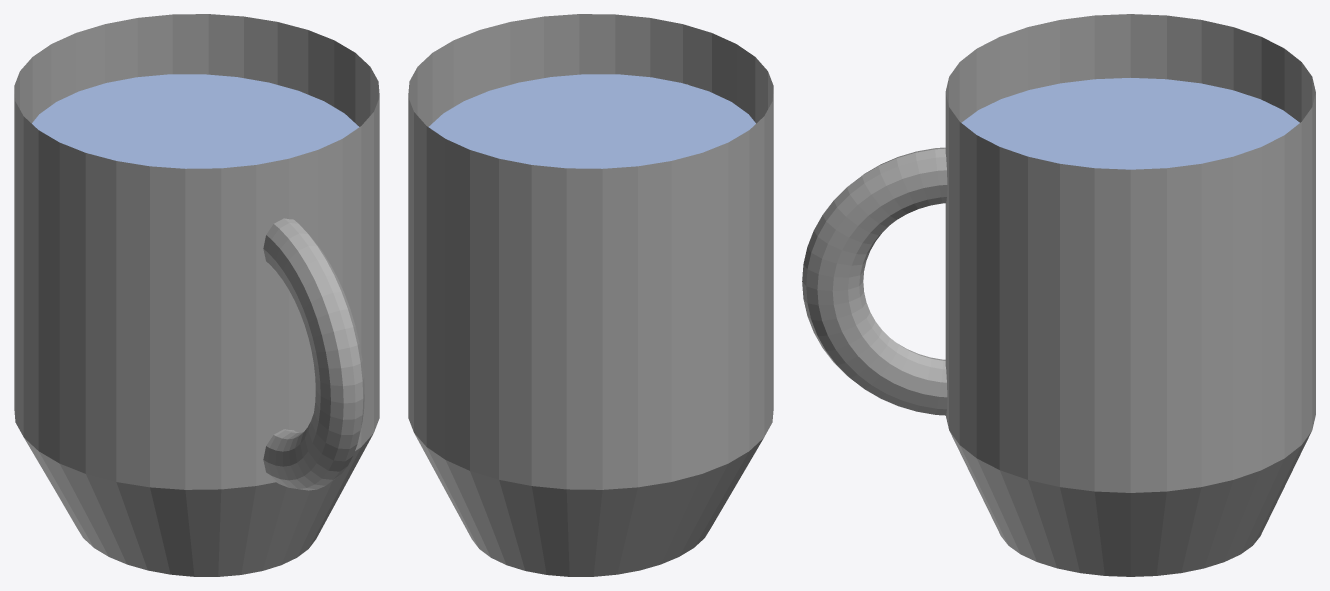
The model's file is cup.fbx.
3 renders of one model, left to right at view 1: azimuth 30°, elevation 25°; view 2: azimuth 150°, elevation 25°; view 3: azimuth 270°, elevation 25°, orthographic.
Parts seen in each view (by area): view 1: Cylinder.001; view 2: Cylinder.001; view 3: Cylinder.001.
Boxes of the visible parts, x1,y1,x2,y2 form: Cylinder.001: [14, 14, 379, 576]; Cylinder.001: [408, 14, 773, 576]; Cylinder.001: [802, 14, 1315, 576].
Bounding box in the file's own units: 42.98 × 55.93 × 59.92.
